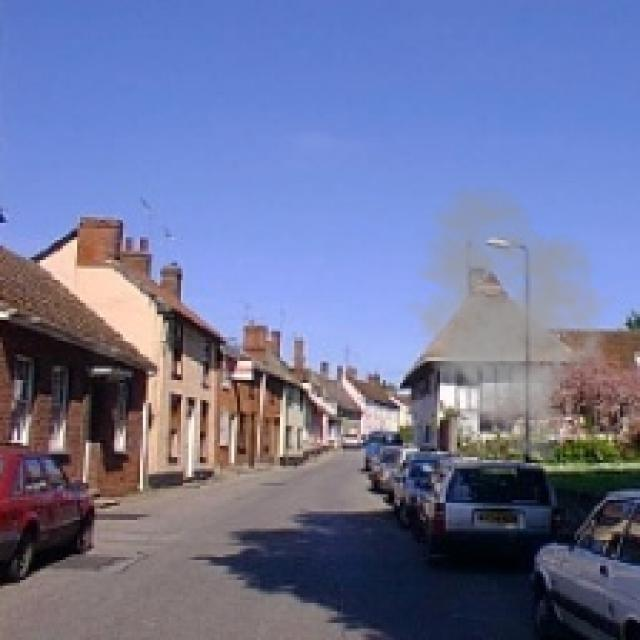smoke: (394, 183, 617, 463)
